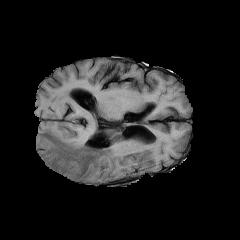glioma: (36, 120, 128, 175)
